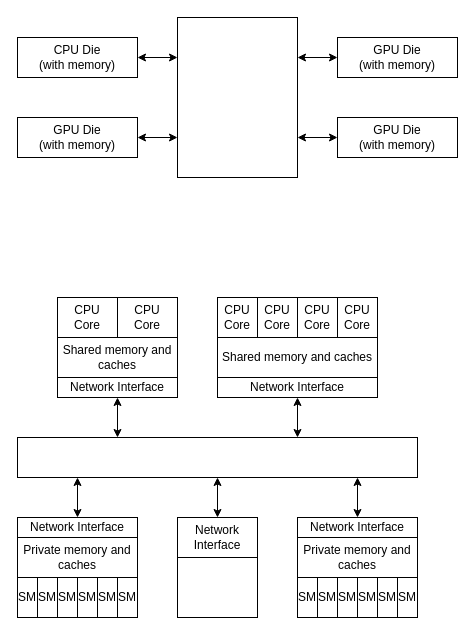
This 475x635 diagram has some shape labels left out. The box of each missing label's shape, as (x1, y1, x2, y2) in pixels:
DRAM Controller: (176, 556, 258, 618)
IO Die (without memory): (176, 16, 298, 178)
Network-on-Chip: (16, 436, 418, 478)
